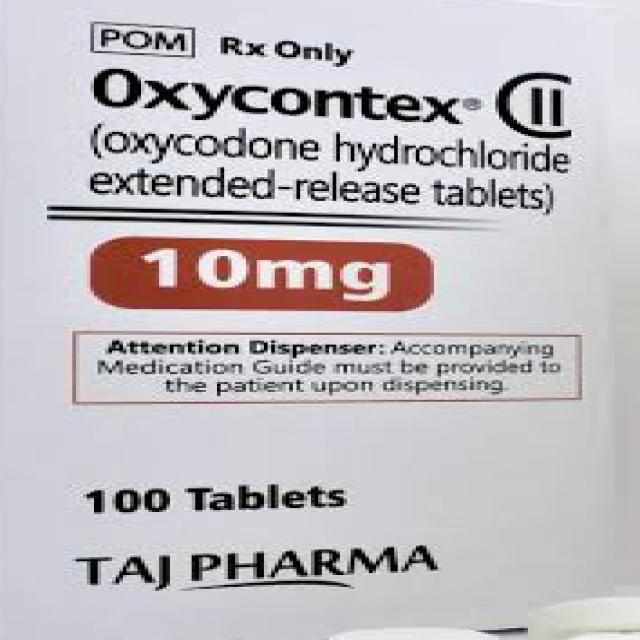drug-name: (92, 63, 484, 127)
